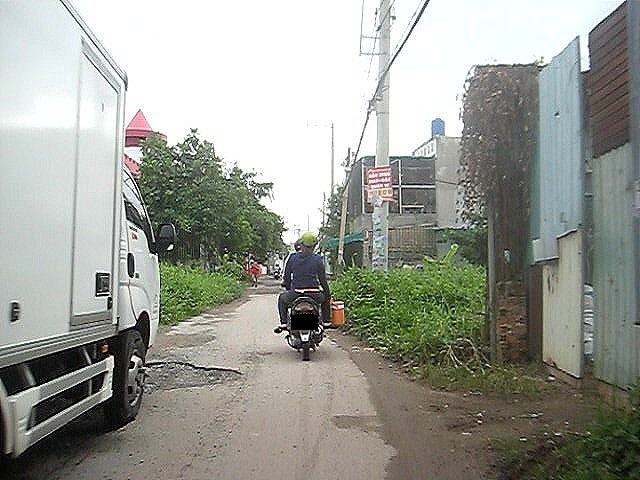hole: (146, 356, 247, 400)
